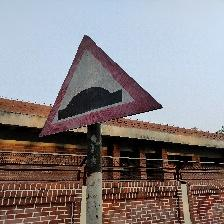Speed-breaker: (38, 35, 163, 136)
